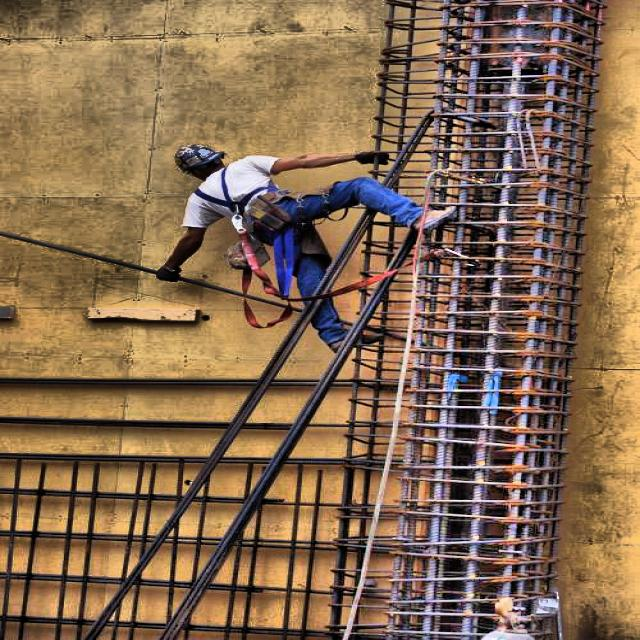helmet: (169, 141, 234, 180)
